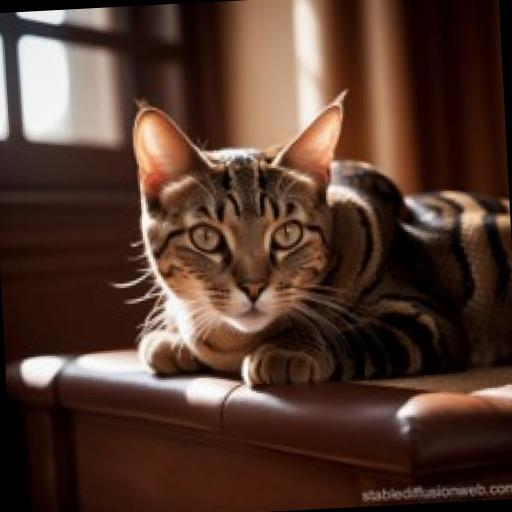cat: (97, 68, 512, 397)
